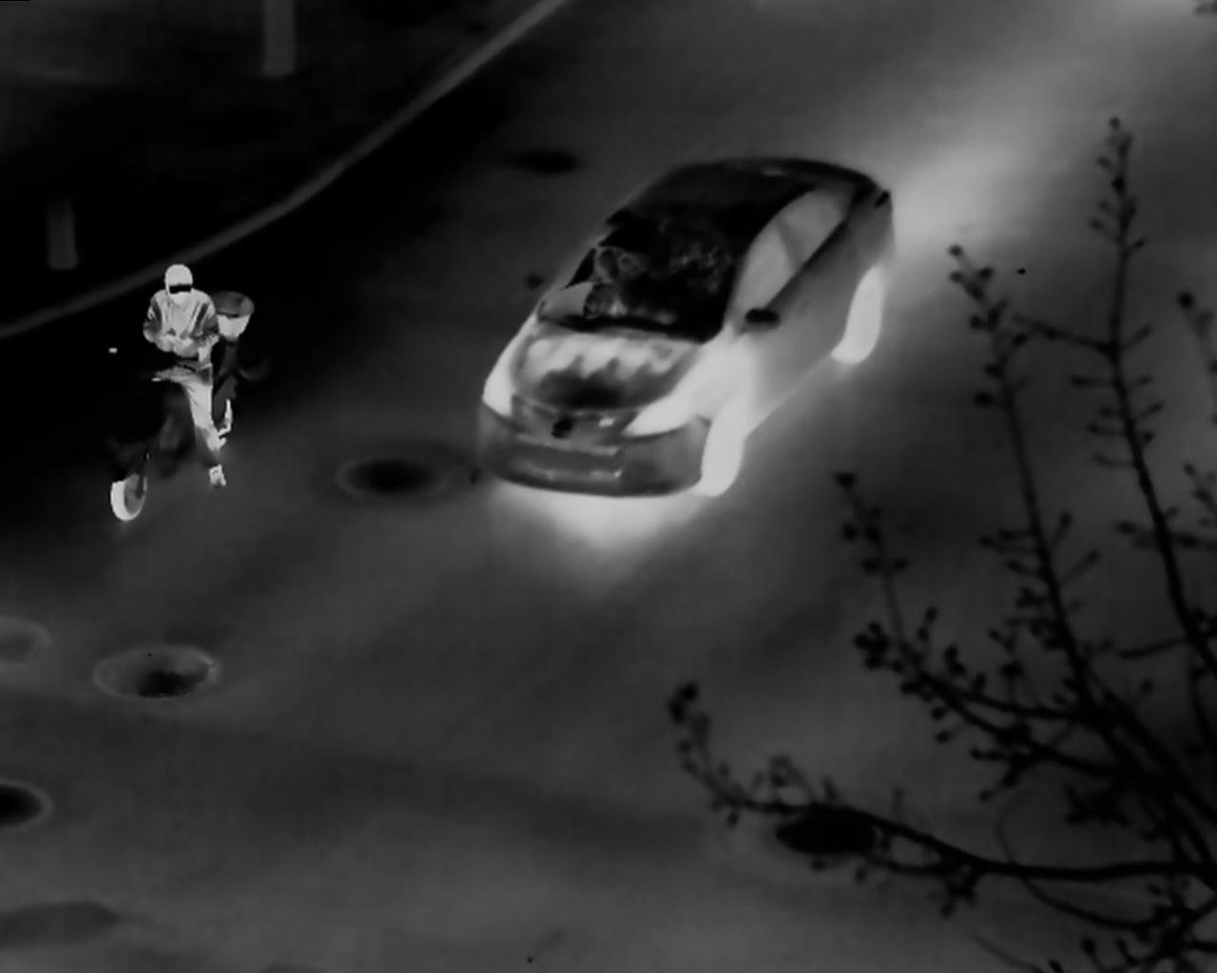person: (139, 265, 234, 455)
